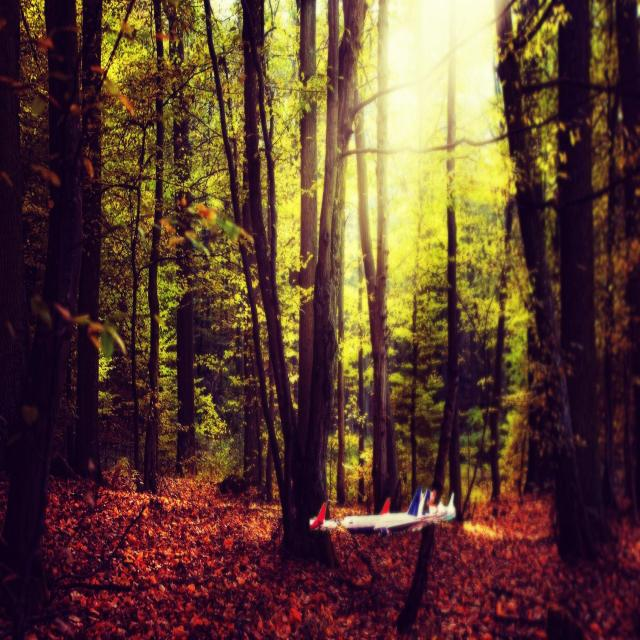airplane: (309, 485, 456, 537)
